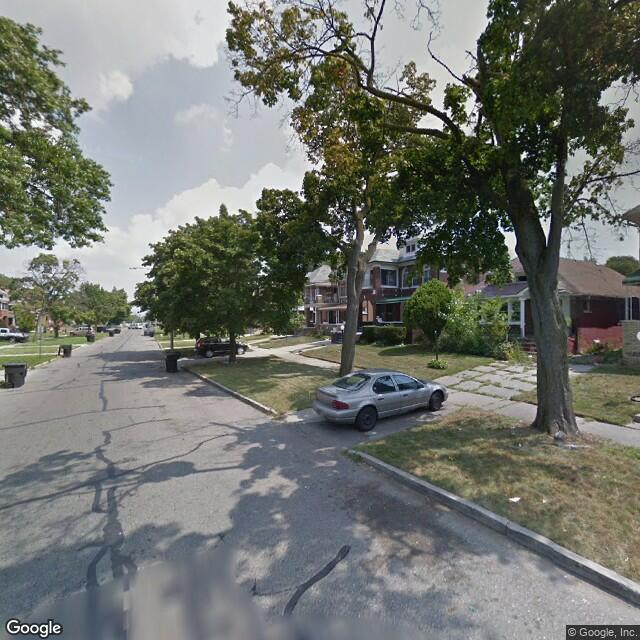litter: (539, 492, 552, 505), (508, 494, 523, 503), (514, 444, 524, 448)
